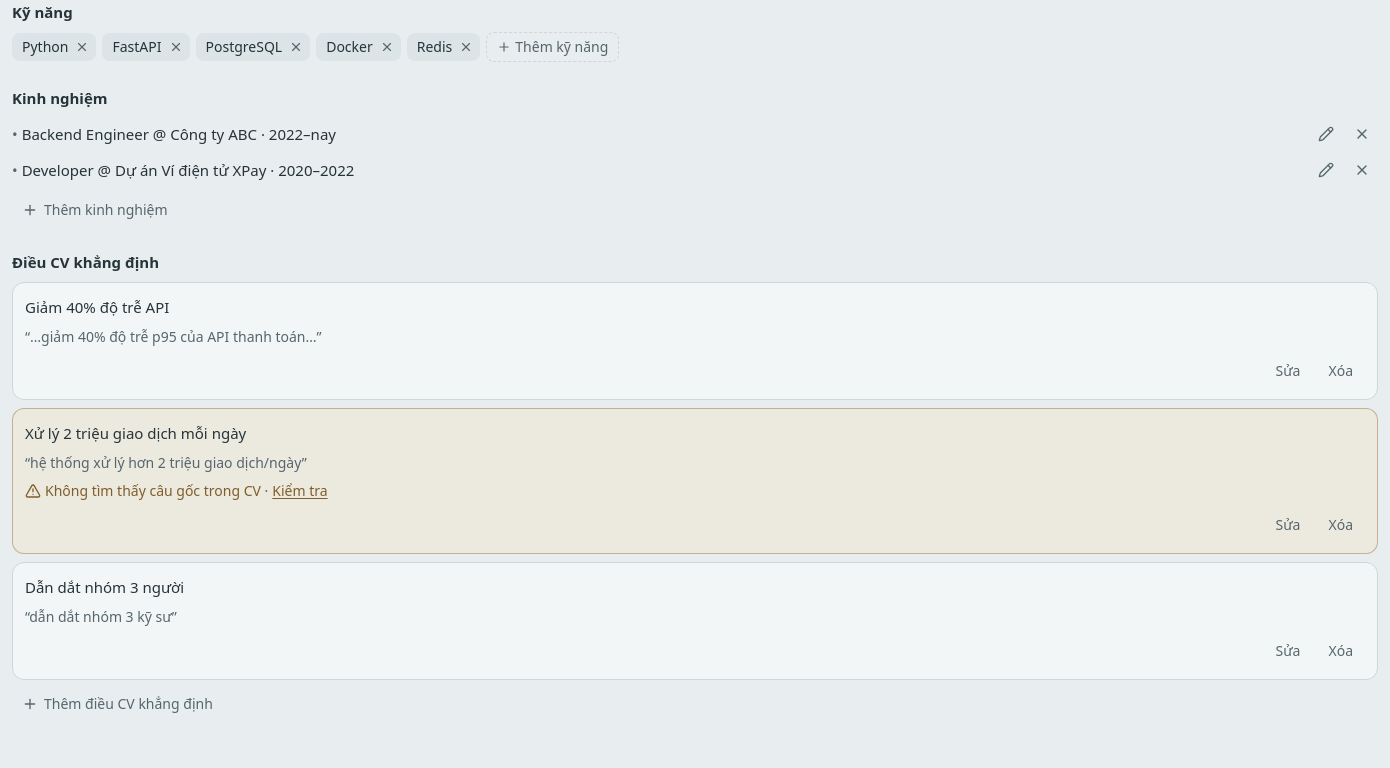
Test case: ProfileEditor › edits a claim and saves it as a new version
The image size is (1390, 768).
Click the 1st button "Sửa" at point(1288, 371), box [1264,355,1312,387]
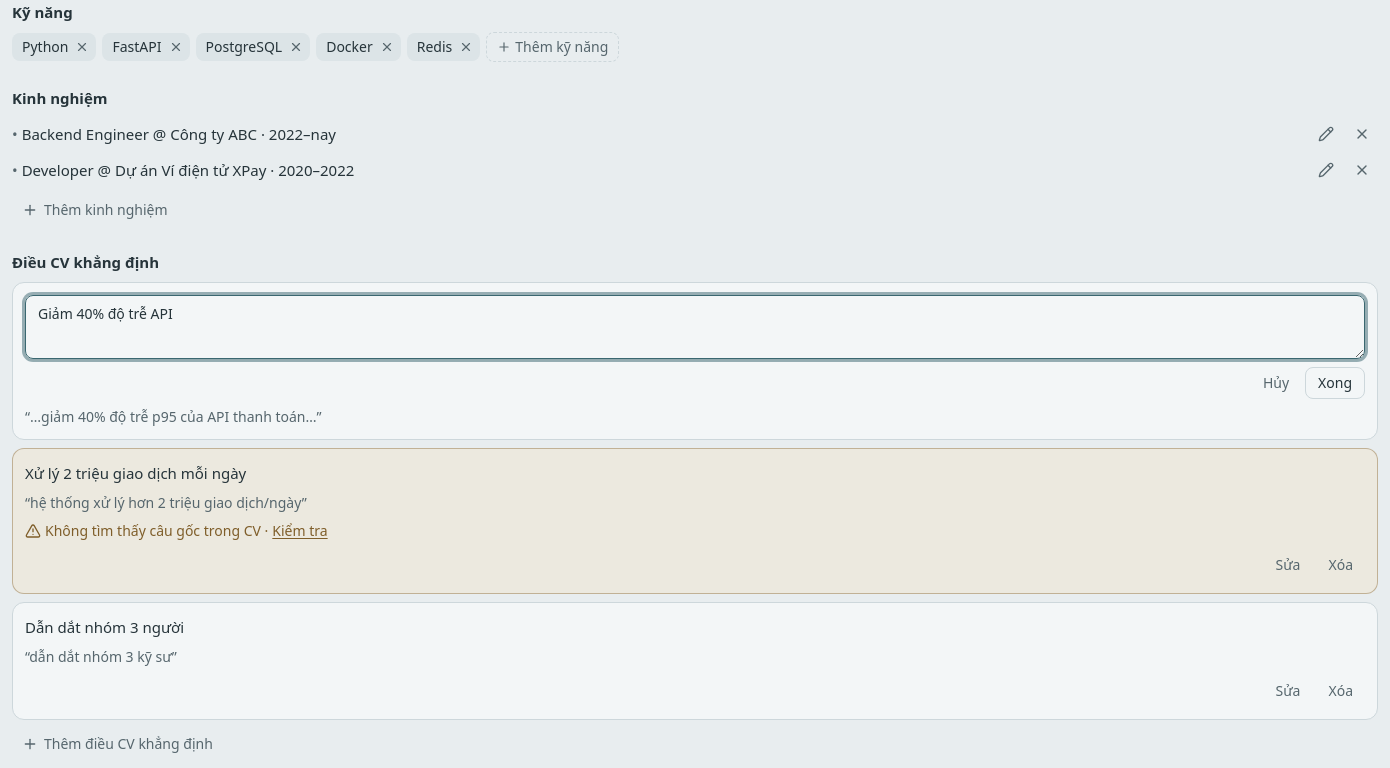
Replace the text in the text box named "Điều CV khẳng định" with "Giảm 45% độ trễ p95" at point(695, 327), box [25,295,1365,359]
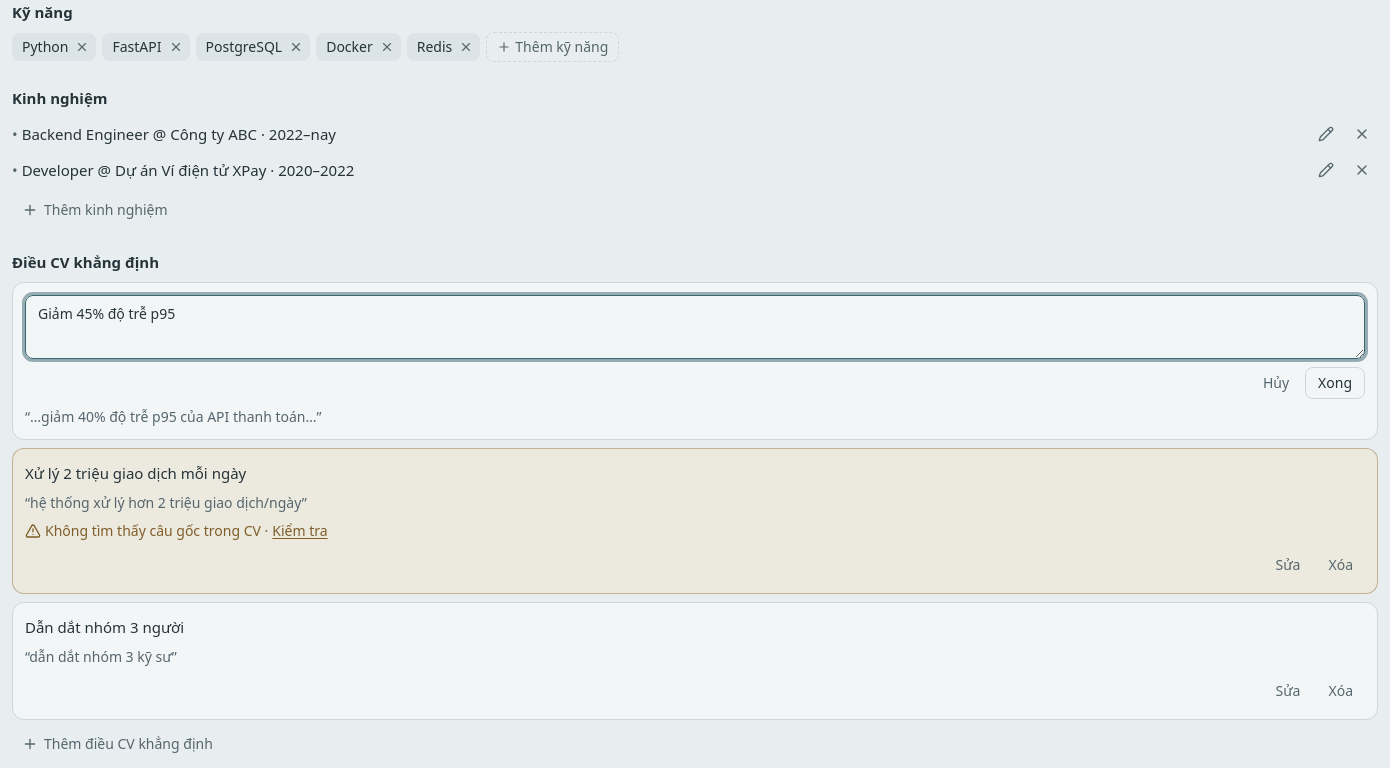
Click the button "Xong" at point(1335, 383), box [1305,367,1365,399]
(page scrolled)
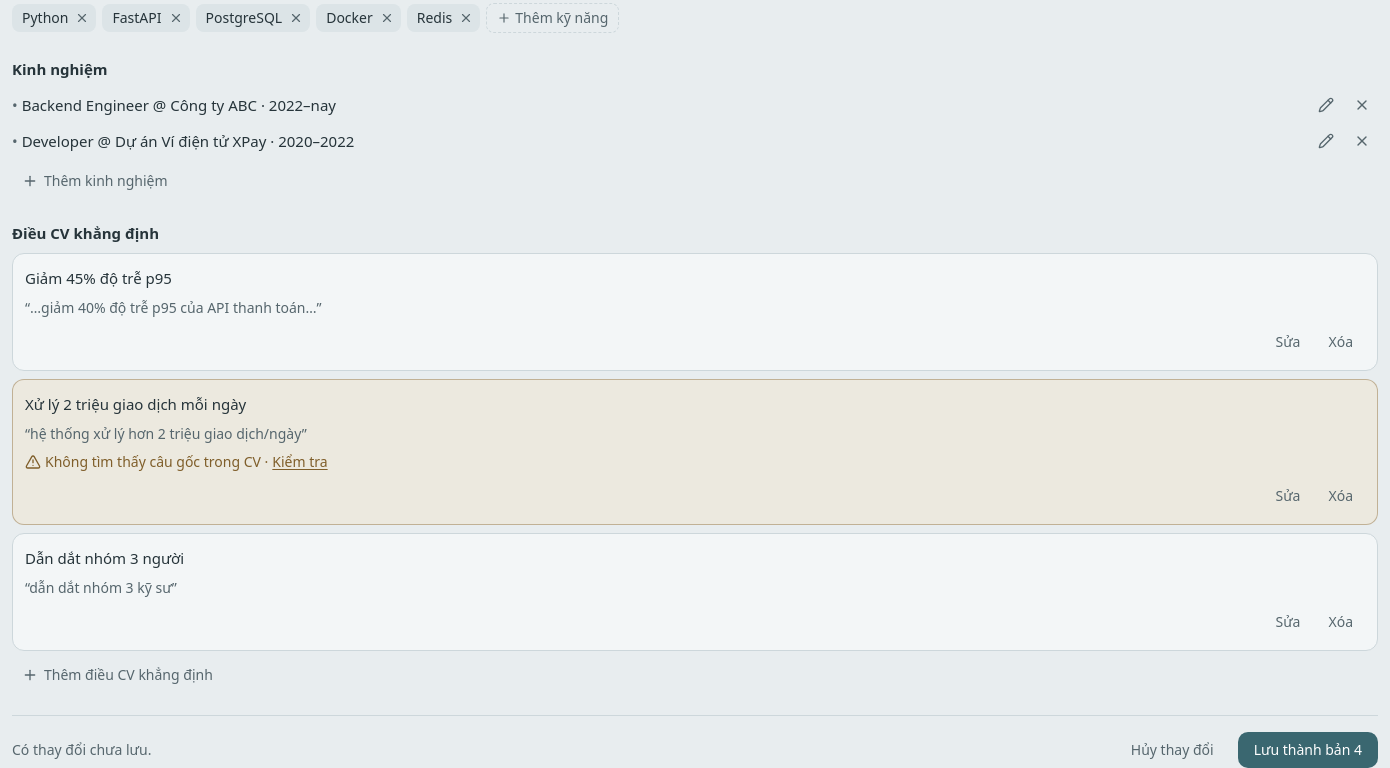
Expected: the text "“…giảm 40% độ trễ p95 của API thanh toán…”" is shown, [25,298,322,317]
Click the button "Lưu thành bản 4" at point(1308, 750), box [1238,732,1378,767]
(page scrolled)
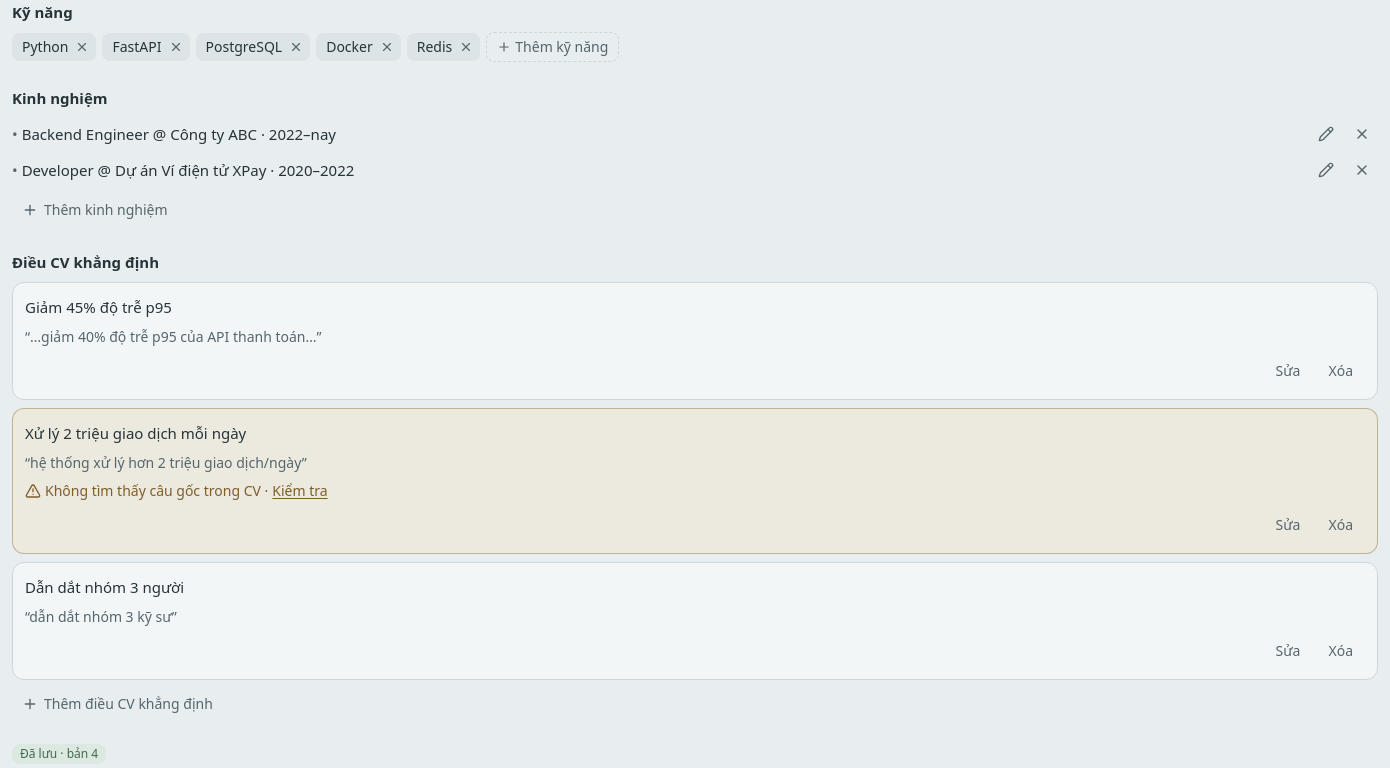
Result: the text "Giảm 45% độ trễ p95" is shown at [25,297,172,317]
Result: the button "Lưu thành bản" is gone
